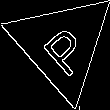P_NW: (32, 13, 91, 76)
